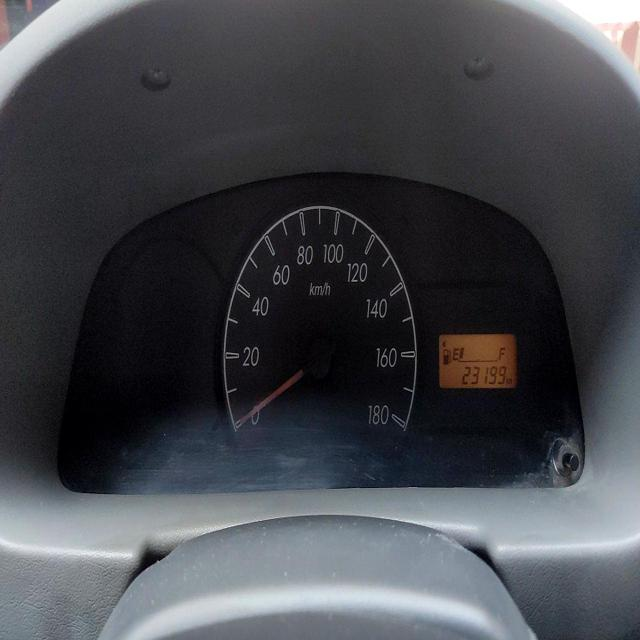odometer: (460, 361, 508, 388)
